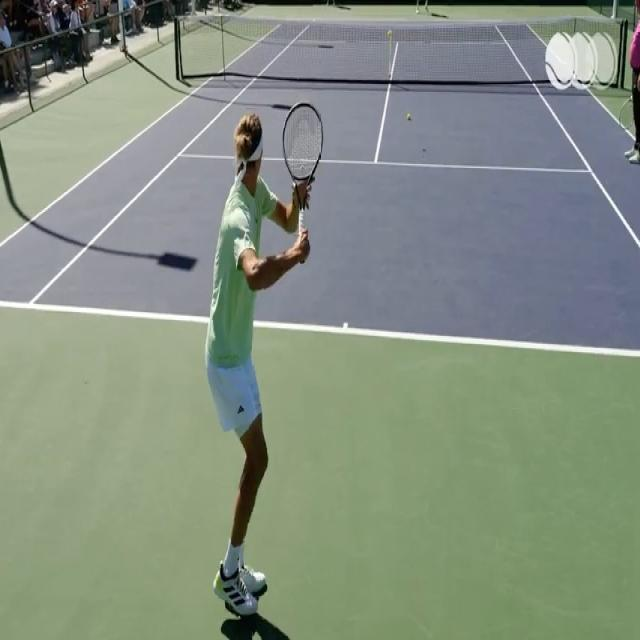forehand-ready: (206, 96, 326, 617)
